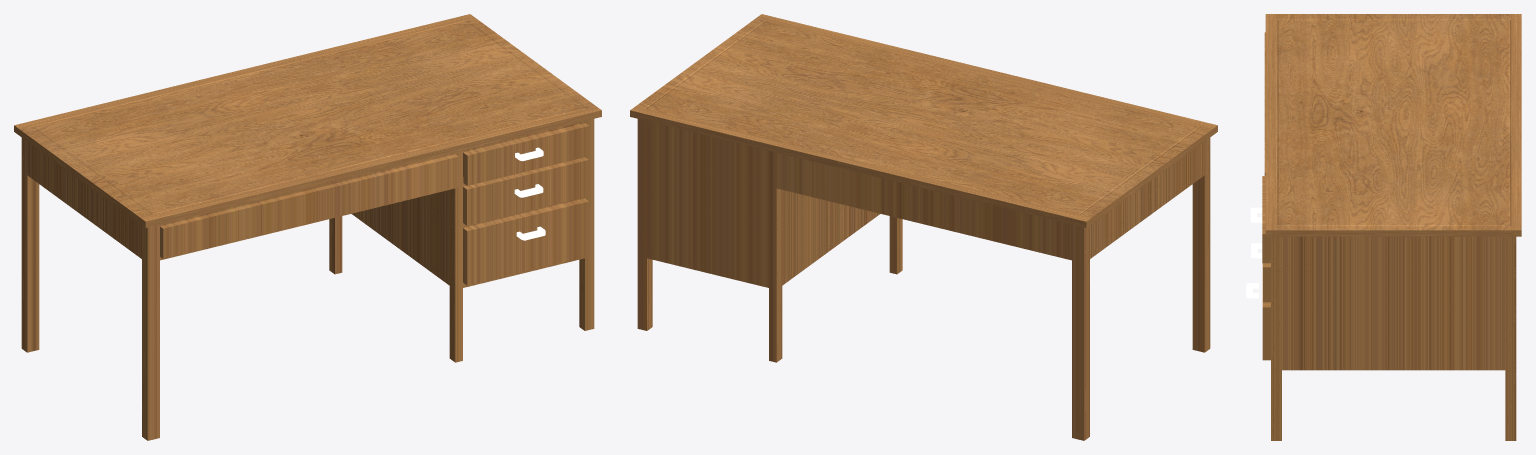
The model's file is table2.glb.
3 renders of one model, left to right at view 1: azimuth 30°, elevation 25°; view 2: azimuth 150°, elevation 25°; view 3: azimuth 270°, elevation 25°, orthographic. The views are drawn at different scales.
Visible parts, largest first — view 1: Desk, Drawer Large, Desk.003, Desk.002, Desk.001; view 2: Desk; view 3: Desk, Desk.003, Desk.001, Desk.002, Drawer Large.
Boxes of the visible parts, x1,y1,x2,y2 form: Desk: [14, 14, 601, 440]; Drawer Large: [160, 154, 458, 258]; Desk.003: [463, 198, 589, 285]; Desk.002: [463, 157, 588, 225]; Desk.001: [463, 123, 589, 185]; Desk: [630, 14, 1217, 440]; Desk: [1265, 14, 1521, 440]; Desk.003: [1262, 263, 1270, 360]; Desk.001: [1262, 176, 1270, 263]; Desk.002: [1263, 259, 1270, 302]; Drawer Large: [1264, 32, 1265, 175].
Bounding box in the file's own units: 9.14 × 4.26 × 4.92.
Materials: 2 (1 with a texture image).
